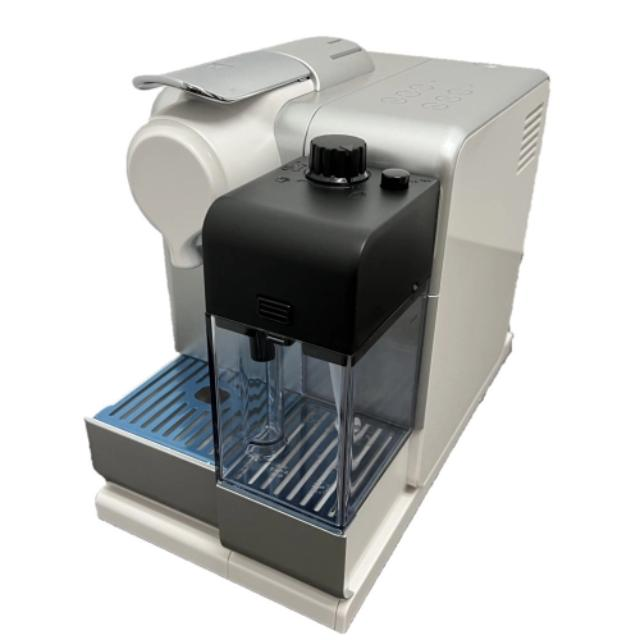Coffee-Machine: (79, 24, 555, 640)
